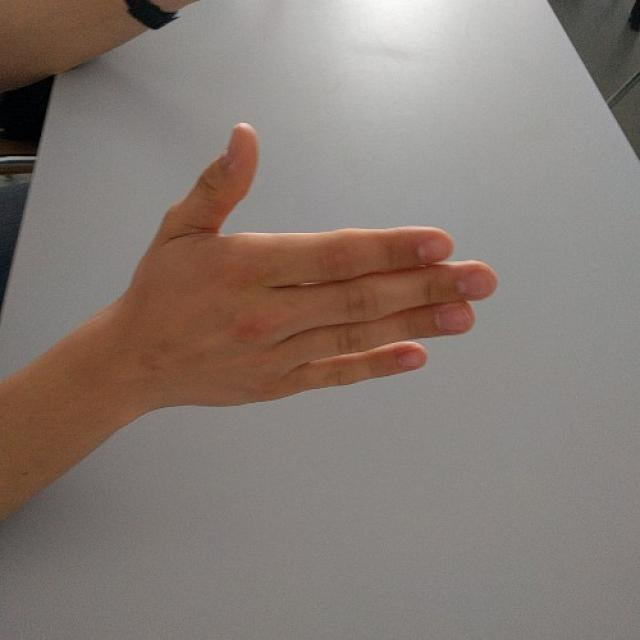paper: (137, 123, 501, 410)
